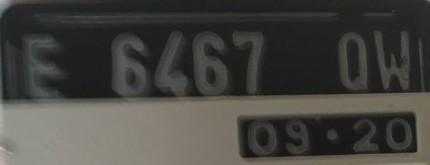4: (156, 28, 189, 99)
6: (109, 32, 154, 102), (190, 28, 229, 100)
7: (232, 28, 268, 102)
E: (18, 34, 66, 100)
Plate: (0, 0, 430, 165)
Q: (330, 29, 372, 90)
W: (366, 26, 424, 93)
